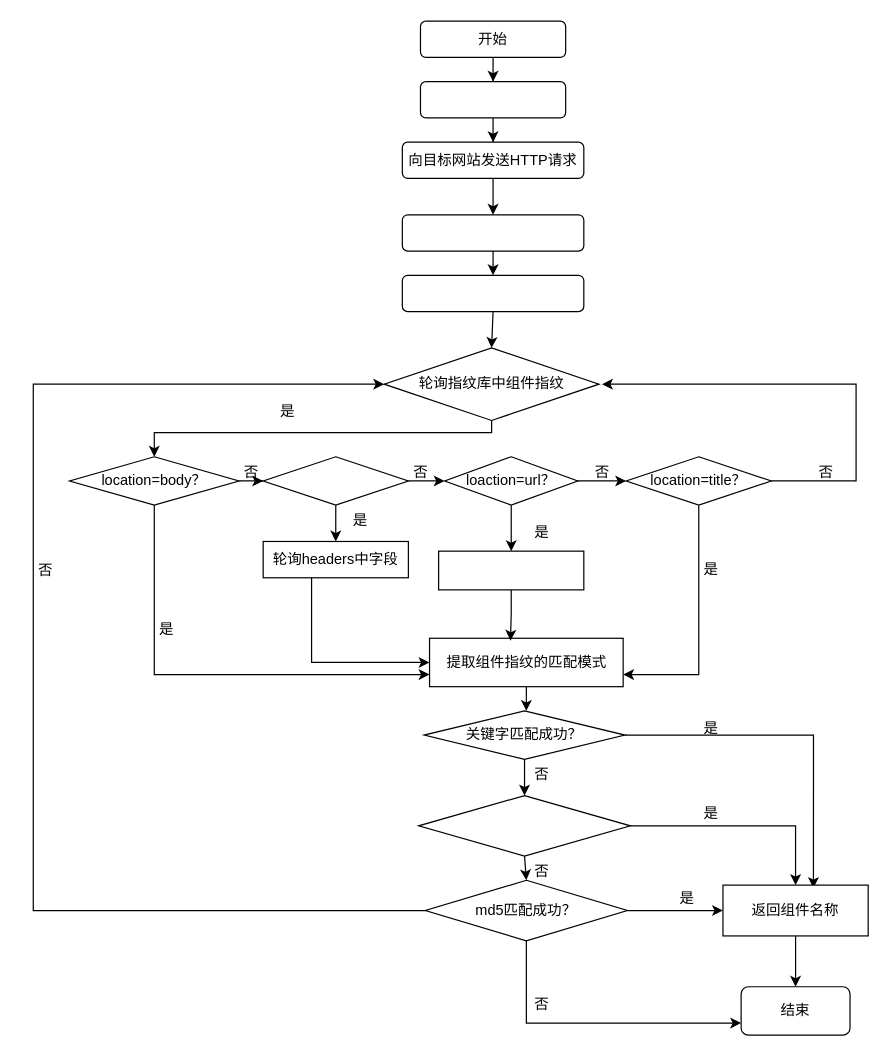
Image size: 889x1056. Some labels were removed from this diagram. Each missing label, with the centre of its shape:
"location=header？" goes at (x=335, y=480).
"打开指纹库读取指纹" goes at (x=492, y=293).
"正则匹配成功？" goes at (x=523, y=825).
"获取响应数据包" goes at (x=492, y=232).
"解析URL" goes at (x=492, y=99).
"轮询url中字段" goes at (x=510, y=570).
